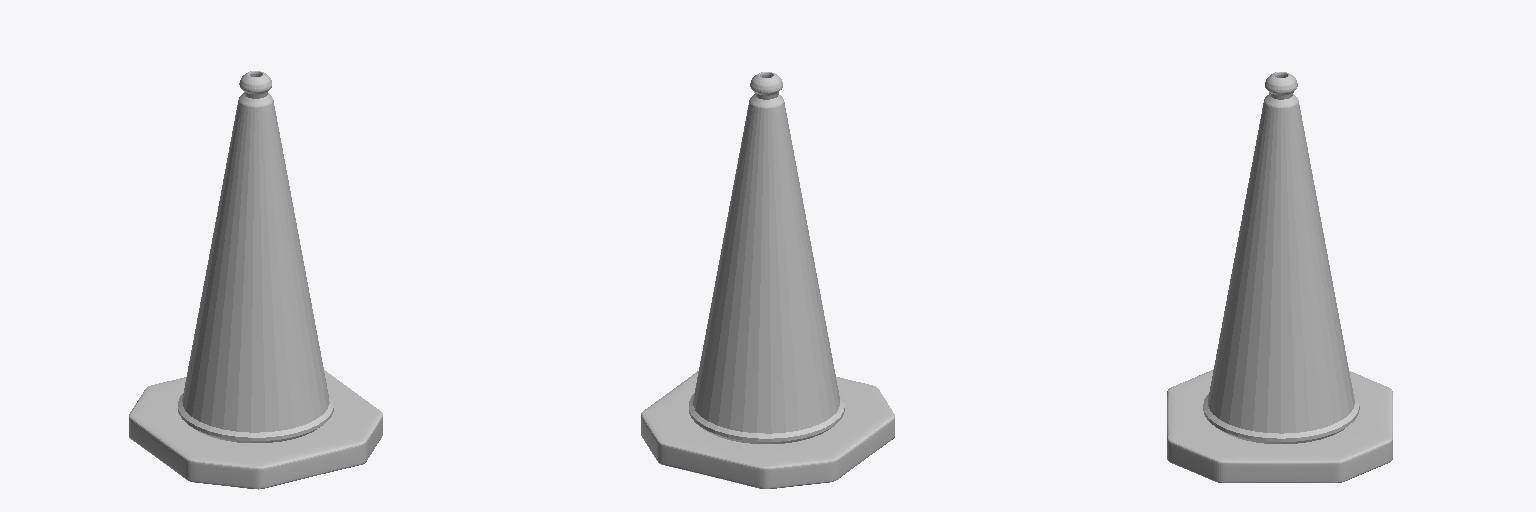
File: Cono.obj
3 views of the same model, side by side, from view 1: azimuth 30°, elevation 25°; view 2: azimuth 150°, elevation 25°; view 3: azimuth 270°, elevation 25° (orthographic).
Parts seen in each view (by area): view 1: Cilindro, Base_cono; view 2: Cilindro, Base_cono; view 3: Cilindro, Base_cono.
Boxes of the visible parts, x1,y1,x2,y2 form: Cilindro: [178, 71, 333, 442]; Base_cono: [129, 370, 382, 489]; Cilindro: [689, 72, 844, 443]; Base_cono: [641, 371, 894, 488]; Cilindro: [1203, 72, 1359, 443]; Base_cono: [1167, 369, 1392, 482].
Size of the model in its own units: 3.69 by 6.5 by 3.69.